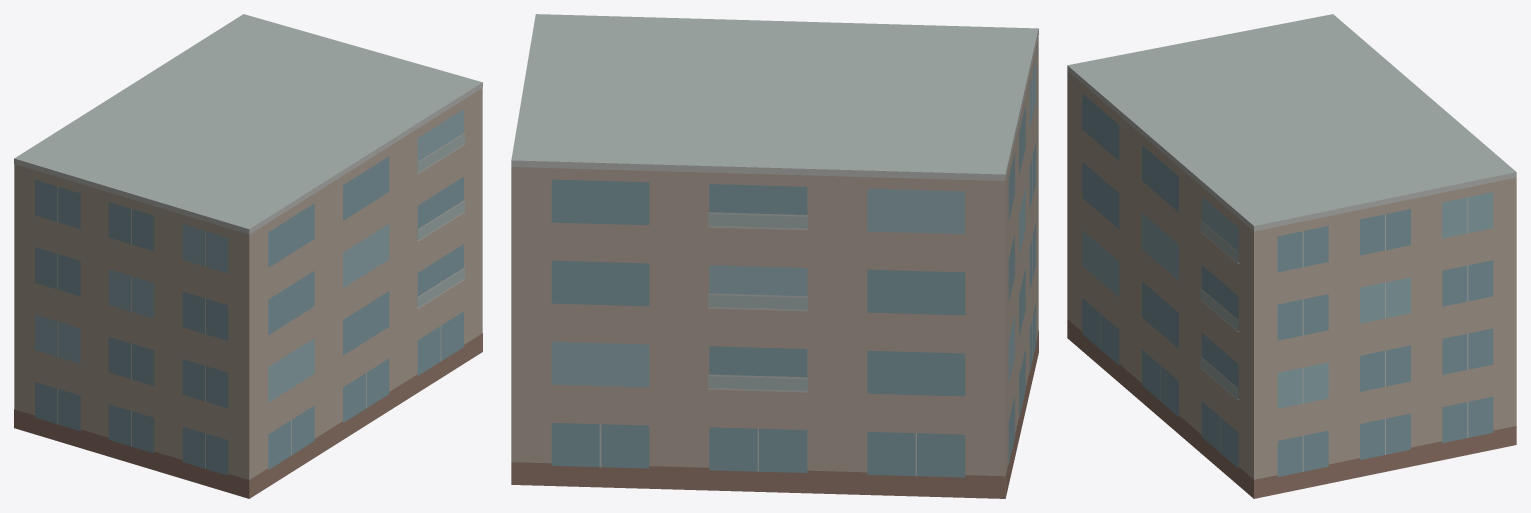
File: survey-upis-32706709.glb
3 renders of one model, left to right at view 1: azimuth 30°, elevation 25°; view 2: azimuth 150°, elevation 25°; view 3: azimuth 270°, elevation 25°, orthographic. The views are drawn at different scales.
Parts seen in each view (by area): view 1: survey-upis-32706709.tmp; view 2: survey-upis-32706709.tmp; view 3: survey-upis-32706709.tmp.
Boxes of the visible parts, bbox=[...] form: survey-upis-32706709.tmp: bbox=[14, 14, 482, 498]; survey-upis-32706709.tmp: bbox=[511, 14, 1038, 498]; survey-upis-32706709.tmp: bbox=[1067, 14, 1516, 498].
Bounding box in the file's own units: 20.35 × 12.2 × 18.22.
